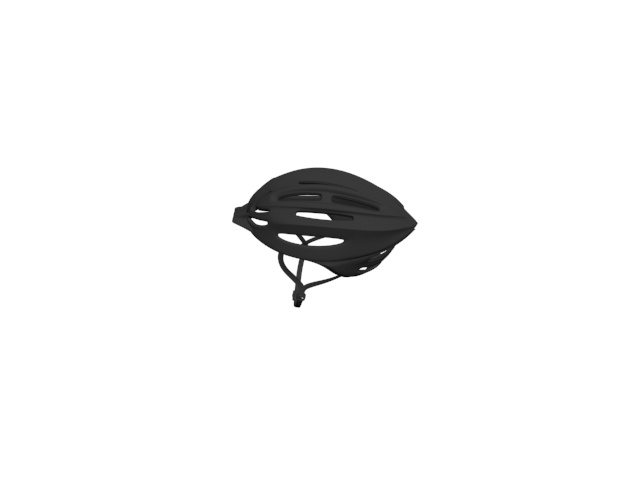bike_helmet: (225, 161, 424, 312)
